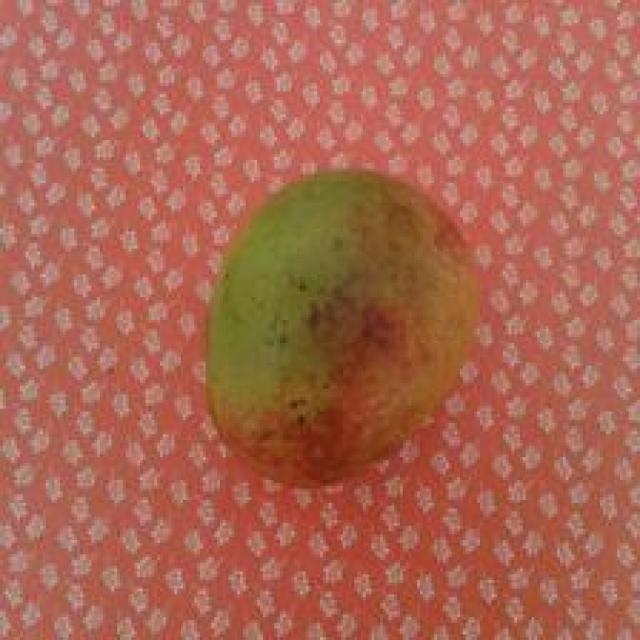mango: (203, 165, 480, 486)
